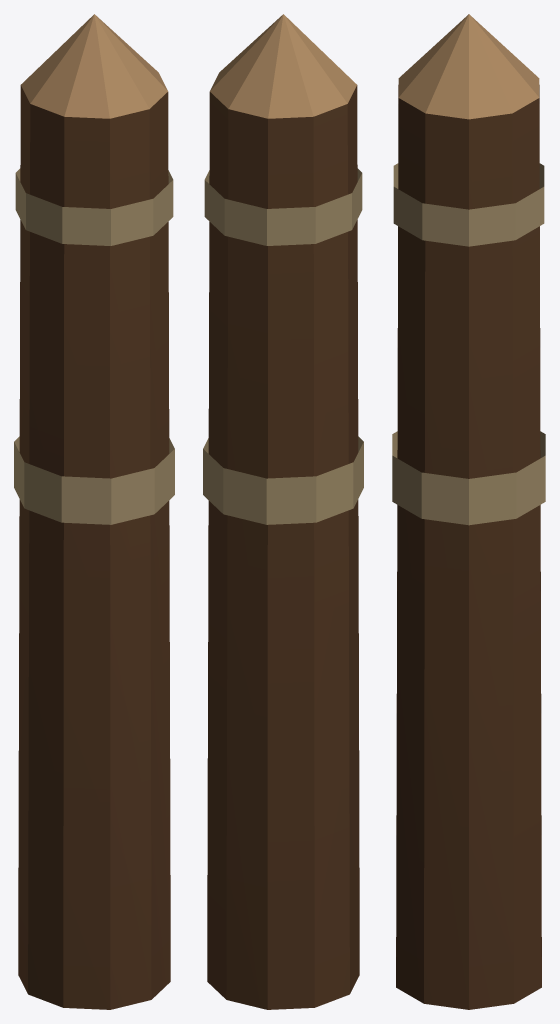
File: fence_corner.glb
3 renders of one model, left to right at view 1: azimuth 30°, elevation 25°; view 2: azimuth 150°, elevation 25°; view 3: azimuth 270°, elevation 25°, orthographic.
Size of the model in its own units: 0.316 by 2.08 by 0.3005.
